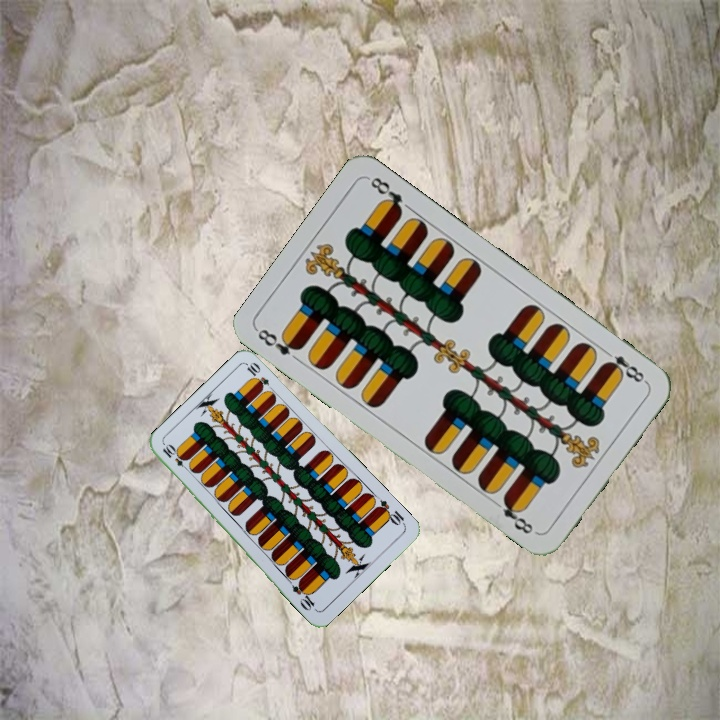E10: (158, 441, 193, 474), (372, 496, 408, 528)
E8: (253, 324, 305, 366), (599, 345, 649, 386)
